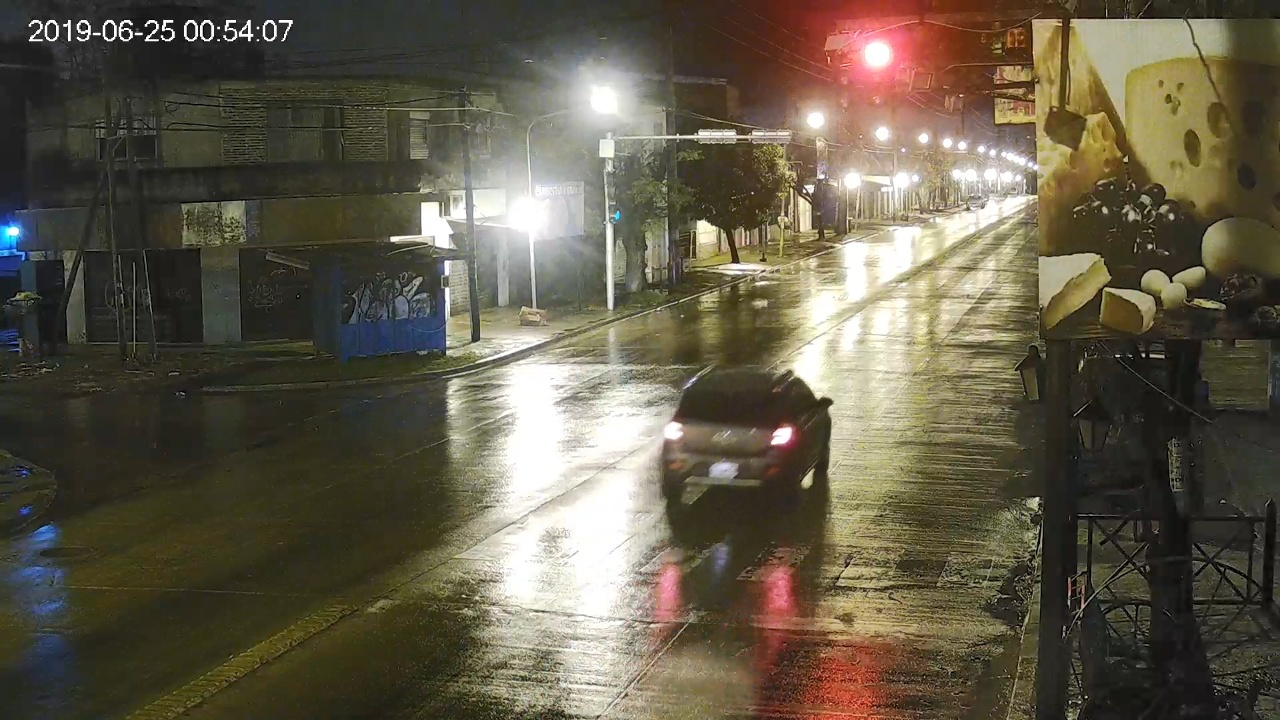car: (662, 365, 833, 503)
traffic light: (866, 44, 889, 104)
